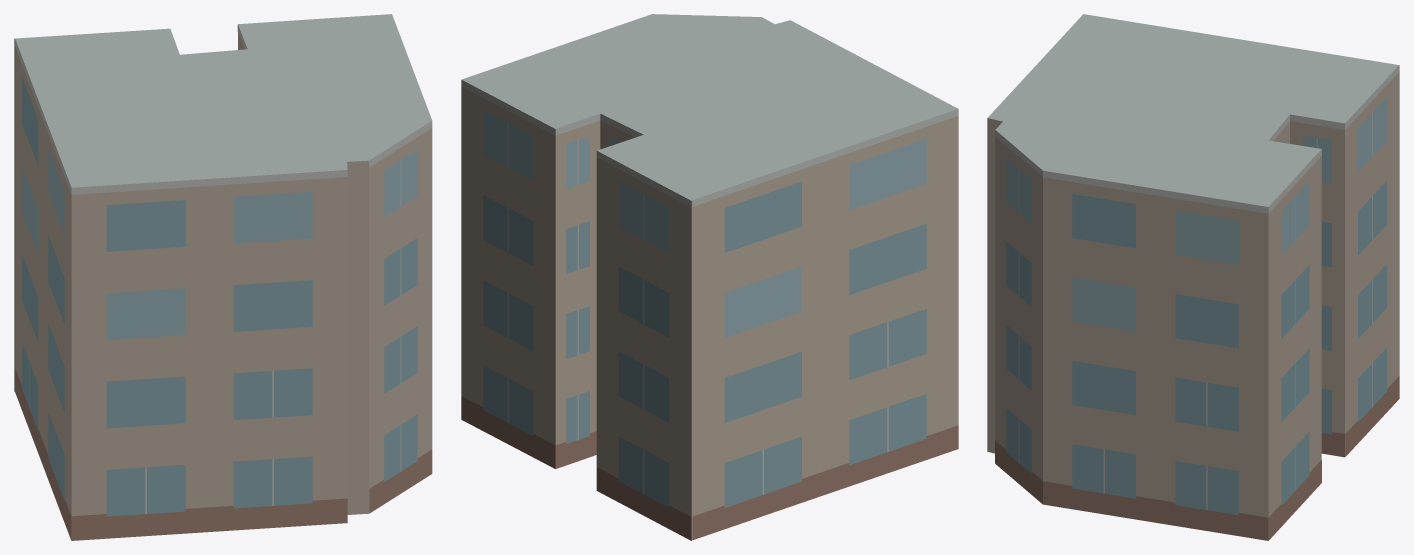
The model's file is survey-upis-32872733.glb.
3 views of the same model, side by side, from view 1: azimuth 30°, elevation 25°; view 2: azimuth 150°, elevation 25°; view 3: azimuth 270°, elevation 25° (orthographic). The views are drawn at different scales.
Visible parts, largest first — view 1: survey-upis-32872733.tmp; view 2: survey-upis-32872733.tmp; view 3: survey-upis-32872733.tmp.
Boxes of the visible parts, bbox=[...] form: survey-upis-32872733.tmp: bbox=[14, 14, 432, 540]; survey-upis-32872733.tmp: bbox=[461, 14, 958, 540]; survey-upis-32872733.tmp: bbox=[987, 14, 1399, 540].
Bounding box in the file's own units: 15.14 × 12.2 × 13.66.
